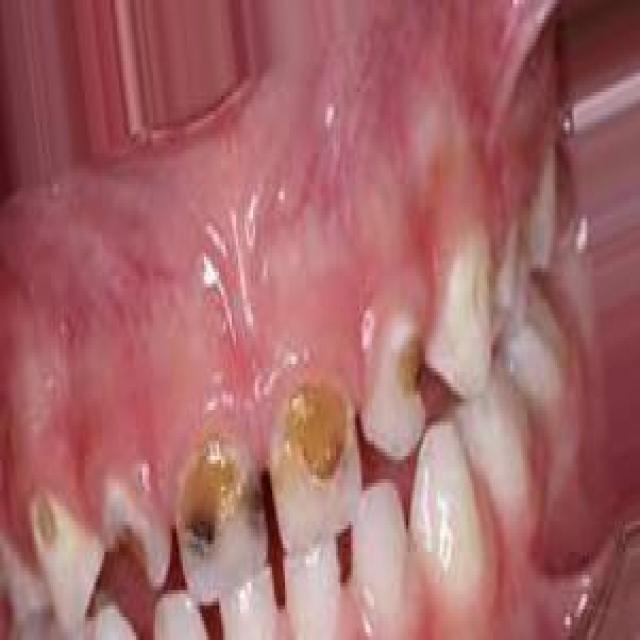caries: (181, 452, 271, 580), (279, 374, 358, 511), (368, 312, 431, 444), (454, 239, 502, 388), (104, 478, 166, 592), (31, 489, 73, 582)
